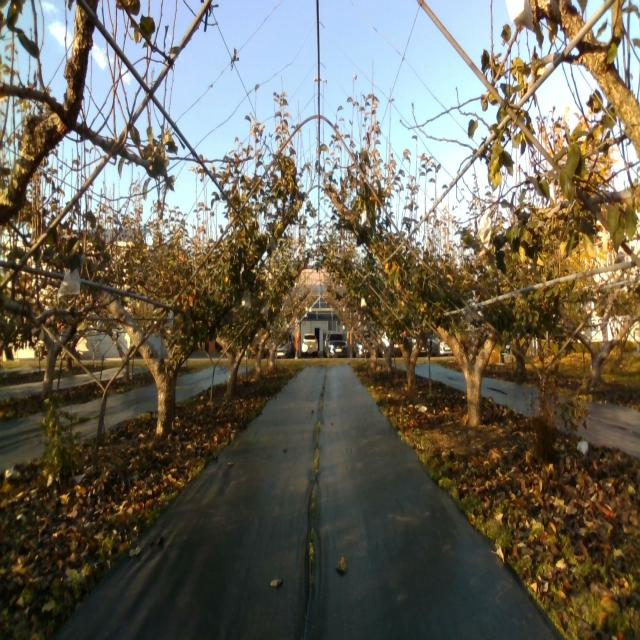pearbags: (506, 0, 534, 32), (58, 268, 82, 298), (478, 208, 493, 248)
